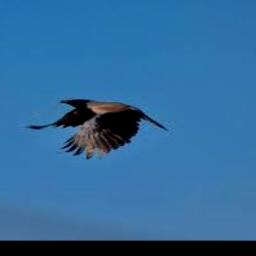Crow: (25, 98, 168, 159)
